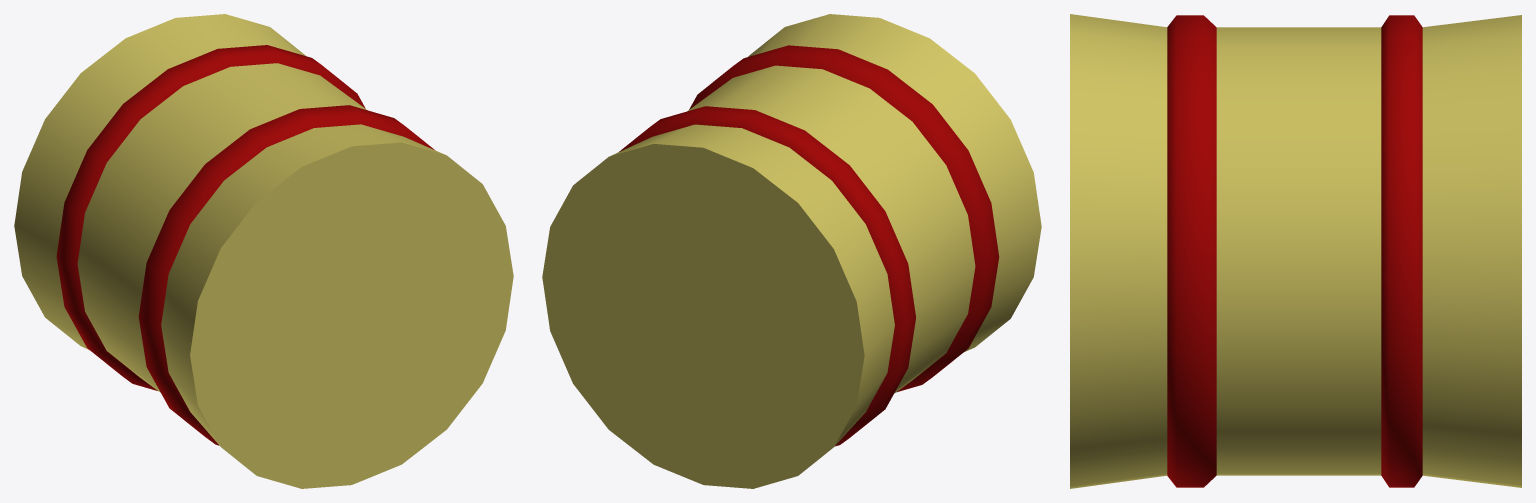
File: Haybale.fbx
3 renders of one model, left to right at view 1: azimuth 30°, elevation 25°; view 2: azimuth 150°, elevation 25°; view 3: azimuth 270°, elevation 25°, orthographic. The views are drawn at different scales.
Parts seen in each view (by area): view 1: HayBale; view 2: HayBale; view 3: HayBale.
Boxes of the visible parts, bbox=[...] form: HayBale: bbox=[14, 14, 513, 488]; HayBale: bbox=[542, 14, 1041, 488]; HayBale: bbox=[1070, 14, 1521, 488].
Bounding box in the file's own units: 5.18 × 5.18 × 4.89.
